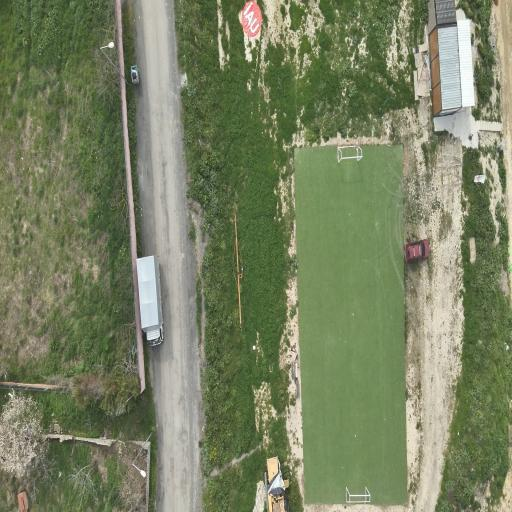UAI: (241, 0, 260, 37)
car: (136, 256, 162, 345), (264, 457, 288, 511), (404, 239, 428, 262)
